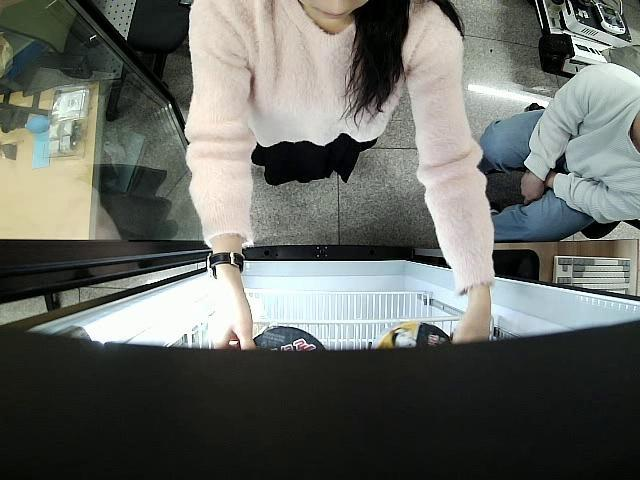07_buldak_L: (242, 324, 324, 355)
